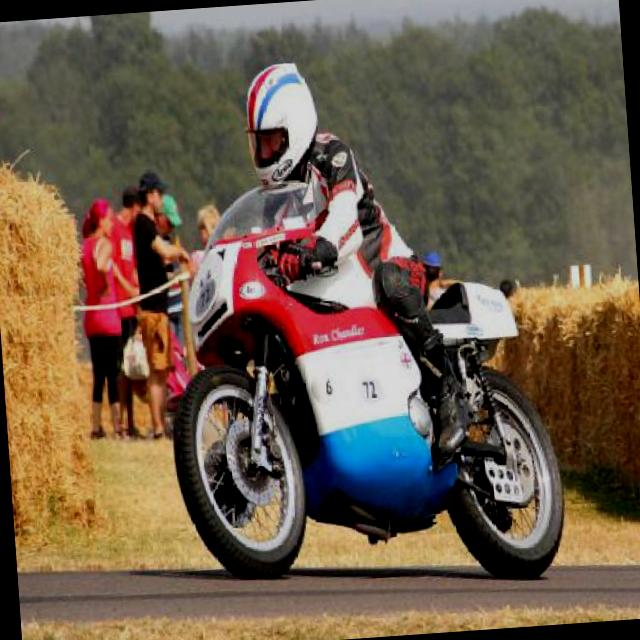Person: (239, 47, 467, 460), (124, 163, 200, 419), (72, 195, 148, 436), (101, 180, 159, 438), (421, 243, 465, 309), (184, 200, 225, 267), (151, 186, 182, 244), (497, 276, 512, 312)
